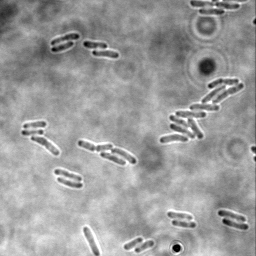Dividing: (29, 134, 62, 158), (76, 138, 114, 154), (189, 0, 241, 11), (53, 167, 84, 183), (48, 32, 81, 46)
Microcolony: (157, 76, 246, 145)
Rod: (82, 225, 101, 255), (110, 146, 138, 166), (99, 150, 128, 167), (217, 208, 248, 223), (222, 216, 249, 232), (56, 175, 84, 190), (133, 238, 156, 254), (122, 236, 145, 251), (50, 41, 76, 54), (167, 210, 195, 222), (171, 218, 198, 230), (82, 39, 109, 51), (92, 49, 120, 60), (21, 119, 48, 130), (198, 7, 226, 17), (19, 128, 45, 137)
